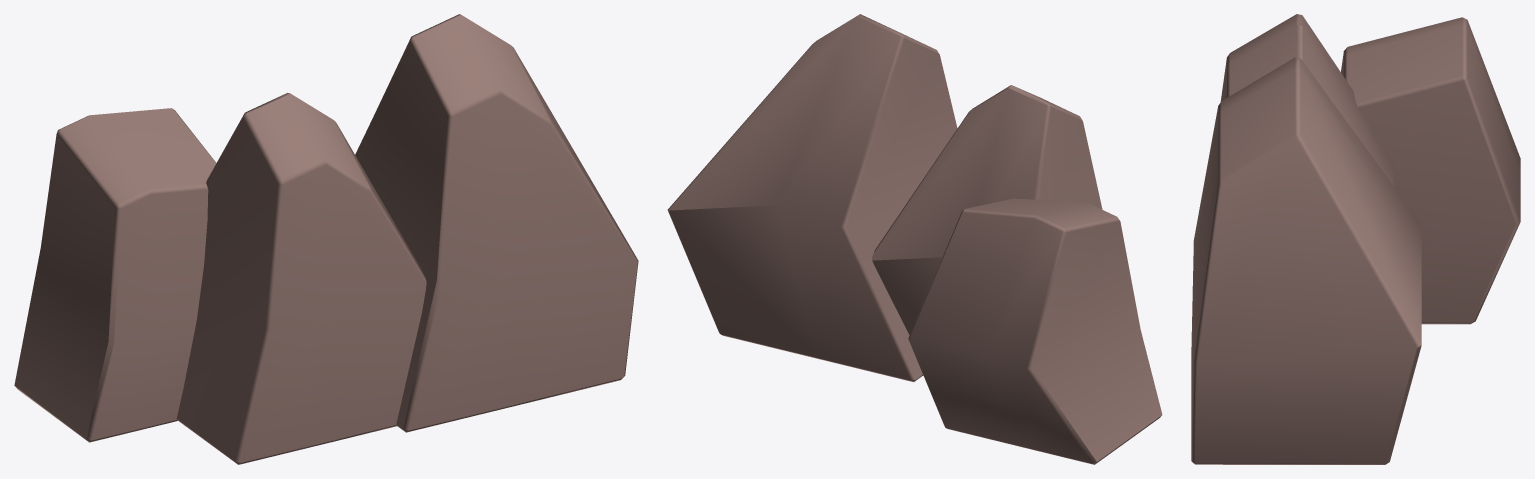
File: Rocks2 1.fbx
The picture shows the model from 3 angles, left to right: view 1: azimuth 30°, elevation 25°; view 2: azimuth 150°, elevation 25°; view 3: azimuth 270°, elevation 25°; orthographic projection. The views are drawn at different scales.
Parts seen in each view (by area): view 1: pCube27; view 2: pCube27; view 3: pCube27.
Part boxes in pixels (<box>): pCube27: <box>14,14,638,464</box>; pCube27: <box>667,14,1162,464</box>; pCube27: <box>1191,14,1520,464</box>.
Size of the model in its own units: 5.09 by 3.37 by 2.92.
